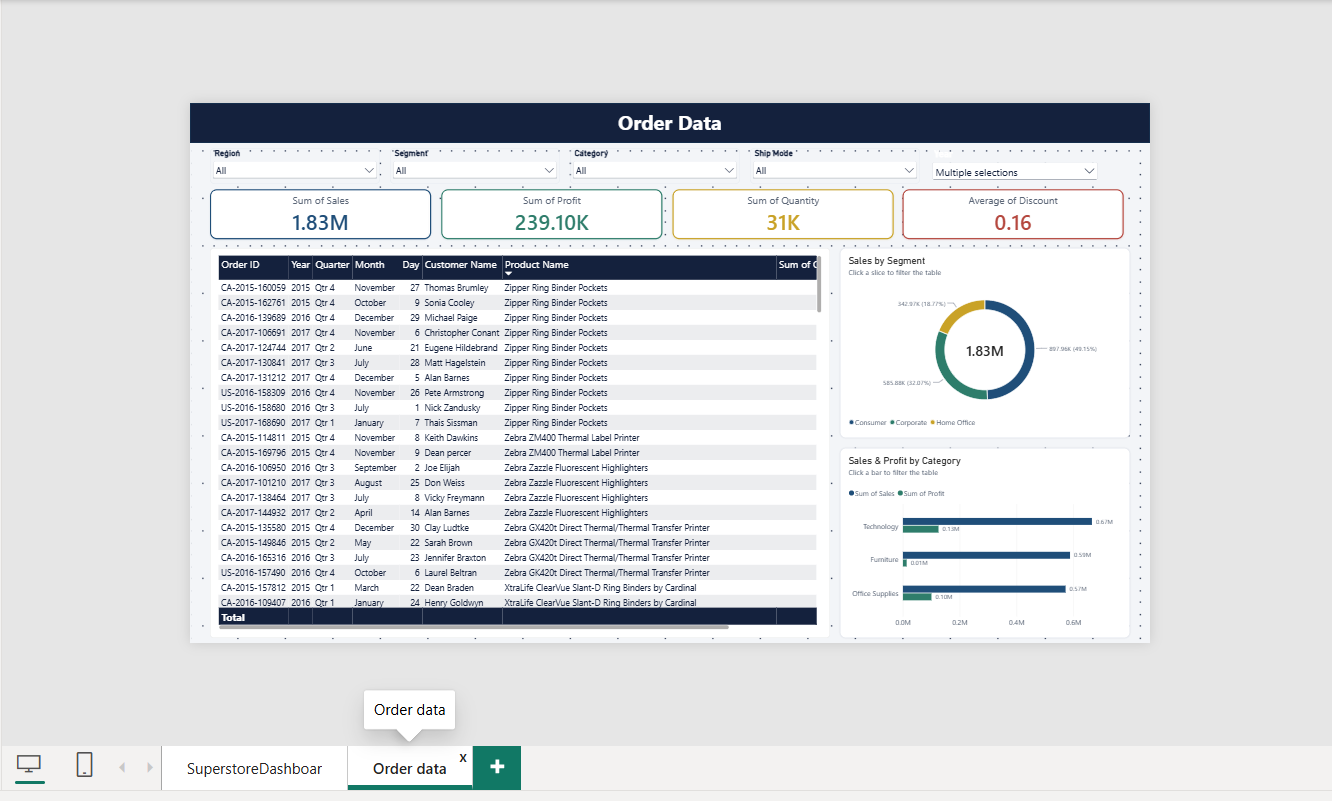

Layout of this report page (visuals, bound fields, positions):
{"tool":"powerbi","page":{"name":"Order data","canvas":[1920,1080],"ordinal":1},"visuals":[{"type":"slicer","fields":{"Values":["Superstore.Ship Date.Variation.Date Hierarchy.Year"]},"box":[1480,90,340,72],"z":7000},{"type":"tableEx","fields":{"Values":["Superstore.Order ID","Superstore.Order Date.Variation.Date Hierarchy.Year","Superstore.Order Date.Variation.Date Hierarchy.Quarter","Superstore.Order Date.Variation.Date Hierarchy.Month","Superstore.Order Date.Variation.Date Hierarchy.Day","Superstore.Customer Name","Superstore.Product Name","Sum(Superstore.Quantity)","Sum(Superstore.Sales)"]},"box":[40,290,1240,780],"z":12000},{"type":"shape","box":[0,0,1920,80],"z":16000},{"type":"textbox","box":[460,10,1000,60],"z":17000},{"type":"slicer","fields":{"Values":["Superstore.Region"]},"box":[40,90,340,72],"z":18000},{"type":"slicer","fields":{"Values":["Superstore.Segment"]},"box":[400,90,340,72],"z":19000},{"type":"slicer","fields":{"Values":["Superstore.Category"]},"box":[760,90,340,72],"z":20000},{"type":"slicer","fields":{"Values":["Superstore.Ship Mode"]},"box":[1120,90,340,72],"z":21000},{"type":"cardVisual","fields":{"Data":["Sum(Superstore.Sales)"]},"box":[40,172,442,100],"z":22000},{"type":"cardVisual","fields":{"Data":["Sum(Superstore.Profit)"]},"box":[502,172,442,100],"z":23000},{"type":"cardVisual","fields":{"Data":["Sum(Superstore.Quantity)"]},"box":[964,172,442,100],"z":24000},{"type":"cardVisual","fields":{"Data":["Avg(Superstore.Discount)"]},"box":[1426,172,442,100],"z":25000},{"type":"donutChart","title":"Sales by Segment","fields":{"Category":["Superstore.Segment"],"Y":["Sum(Superstore.Sales)"]},"box":[1300,290,580,380],"z":26000},{"type":"clusteredBarChart","title":"Sales & Profit by Category","fields":{"Category":["Superstore.Category"],"Y":["Sum(Superstore.Sales)","Sum(Superstore.Profit)"]},"box":[1300,690,580,380],"z":27000}]}

Visuals, with their boxes on the page's 1920x1080 design canvas (x1, y1, x2, y2). These are canvas units, not pixel positions in the 1332x801 screenshot, which may show the page scaled, cropped or inside an application window:
slicer - Superstore.Ship Date.Variation.Date Hierarchy.Year: (1480,90,1820,162)
tableEx - Superstore.Order ID x Superstore.Order Date.Variation.Date Hierarchy.Year: (40,290,1280,1070)
shape: (0,0,1920,80)
textbox: (460,10,1460,70)
slicer - Superstore.Region: (40,90,380,162)
slicer - Superstore.Segment: (400,90,740,162)
slicer - Superstore.Category: (760,90,1100,162)
slicer - Superstore.Ship Mode: (1120,90,1460,162)
cardVisual - Sum(Superstore.Sales): (40,172,482,272)
cardVisual - Sum(Superstore.Profit): (502,172,944,272)
cardVisual - Sum(Superstore.Quantity): (964,172,1406,272)
cardVisual - Avg(Superstore.Discount): (1426,172,1868,272)
"Sales by Segment" donutChart: (1300,290,1880,670)
"Sales & Profit by Category" clusteredBarChart: (1300,690,1880,1070)
